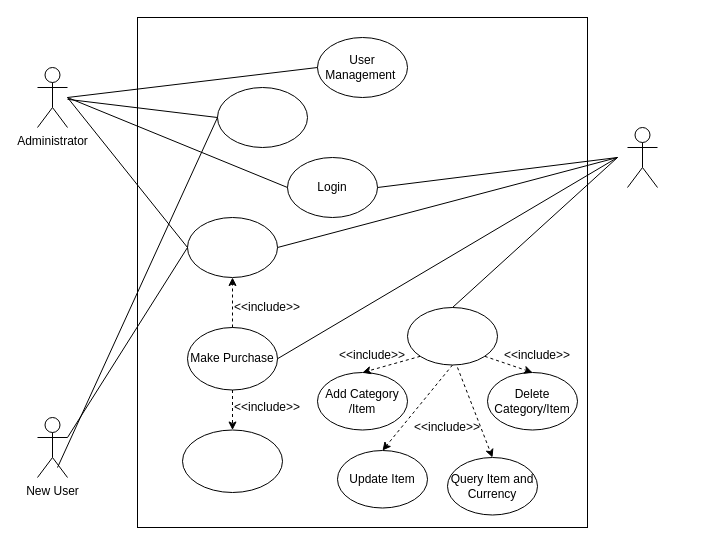
Image size: 703x545. Some labels were removed from this diagram. Here are the shapes that lost their labels. From the top down, the box of each, then its label:
(216, 86, 308, 148): Registration
(626, 126, 658, 188): Registered User
(186, 216, 278, 278): View Items
(406, 306, 498, 365): User Account Management
(182, 429, 282, 492): Checkout
